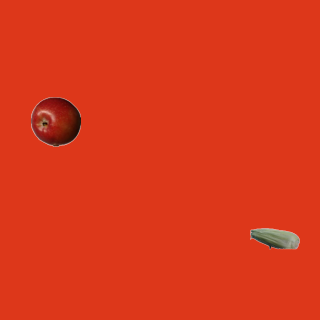Apple Braeburn: (30, 96, 80, 146)
Corn Husk: (249, 213, 299, 263)
